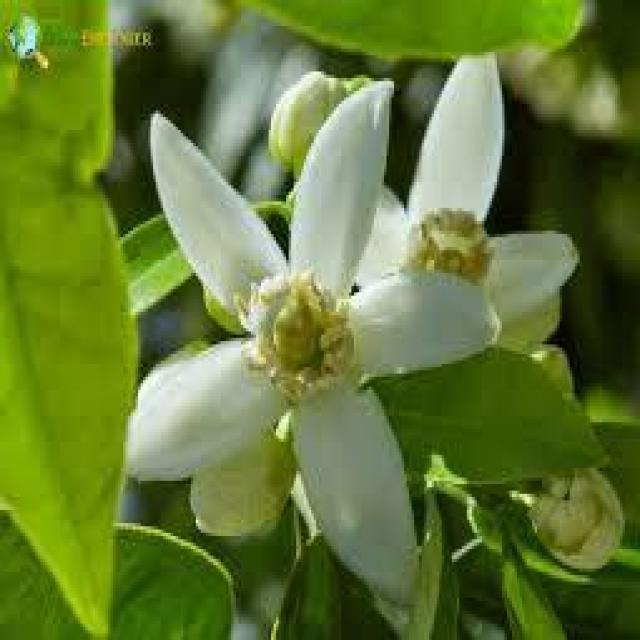Bunga: (125, 81, 497, 604), (352, 48, 578, 332)
